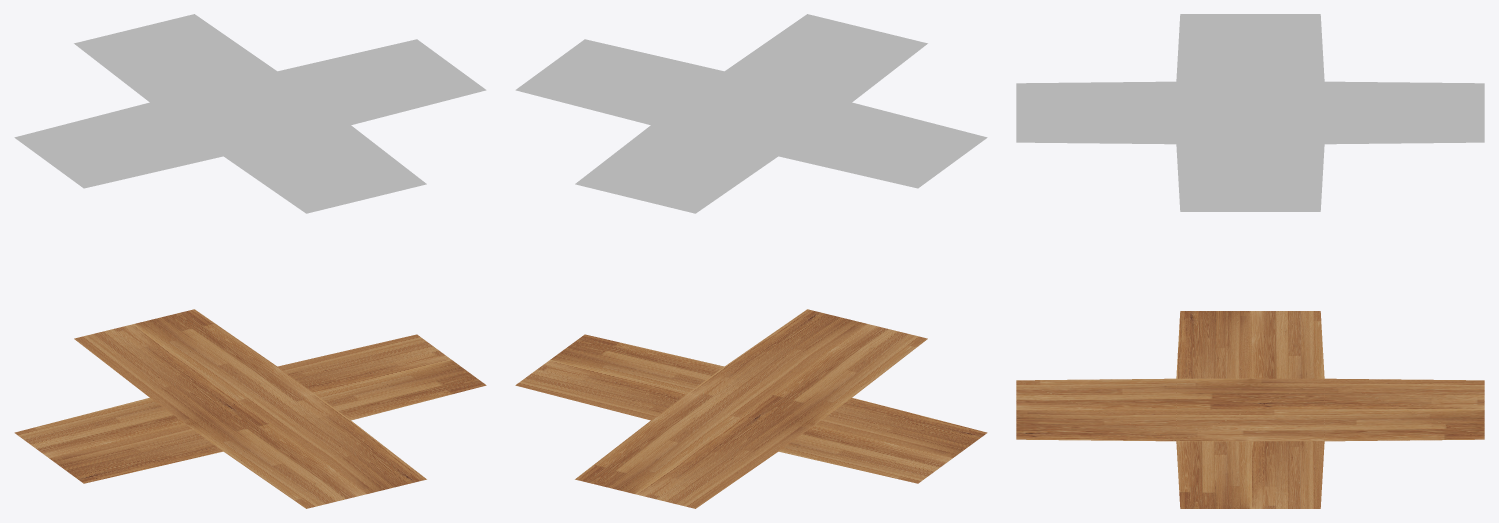
File: 4wayFloor.fbx
3 views of the same model, side by side, from view 1: azimuth 30°, elevation 25°; view 2: azimuth 150°, elevation 25°; view 3: azimuth 270°, elevation 25° (orthographic).
Parts seen in each view (by area): view 1: Cube.009; view 2: Cube.009; view 3: Cube.009.
Boxes of the visible parts, x1=… form: Cube.009: x1=14, y1=14, x2=486, y2=508; Cube.009: x1=515, y1=14, x2=987, y2=508; Cube.009: x1=1016, y1=14, x2=1484, y2=508.
Size of the model in its own units: 2 by 1.4 by 2.
